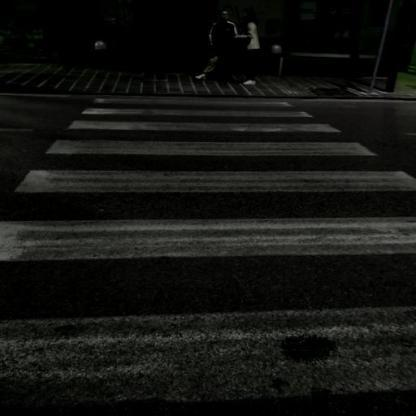crosswalk: (0, 211, 416, 412), (42, 118, 384, 160)
